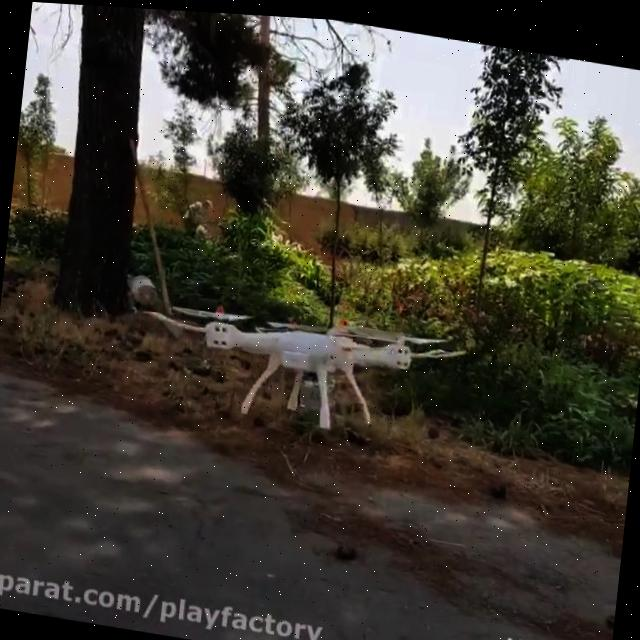drone: (132, 280, 469, 448)
